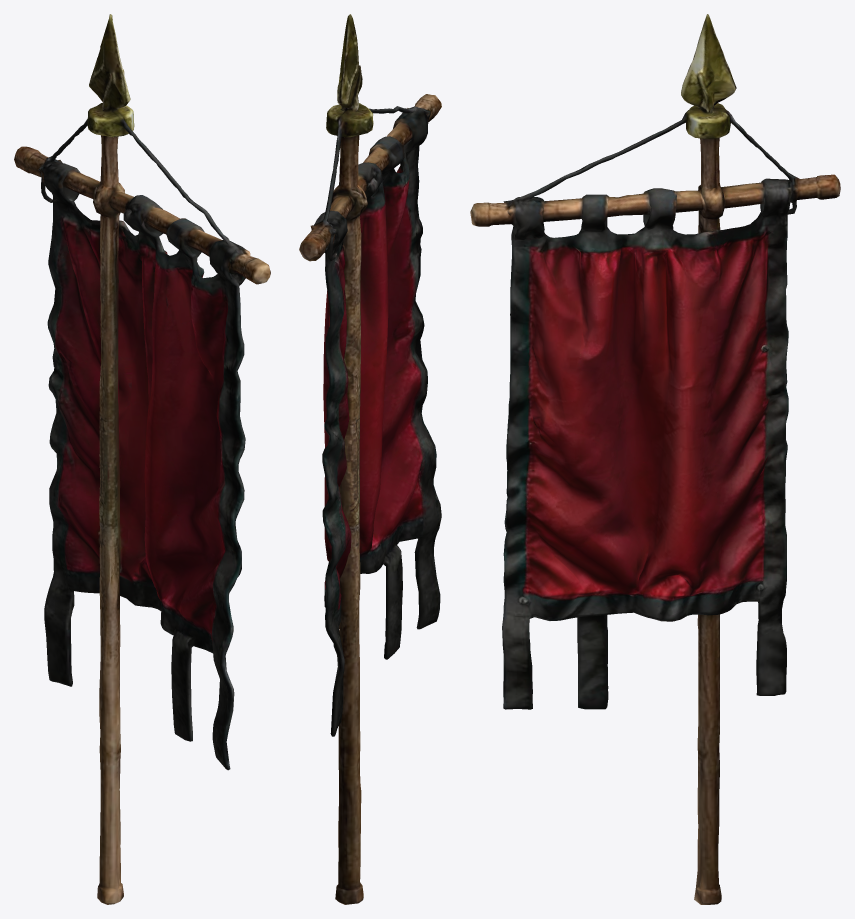
The model's file is banner-high.glb.
The picture shows the model from 3 angles, left to right: view 1: azimuth 30°, elevation 25°; view 2: azimuth 150°, elevation 25°; view 3: azimuth 270°, elevation 25°; orthographic projection.
Bounding box in the file's own units: 0.092 × 0.9992 × 0.3777.
Materials: 1 (1 with a texture image).
